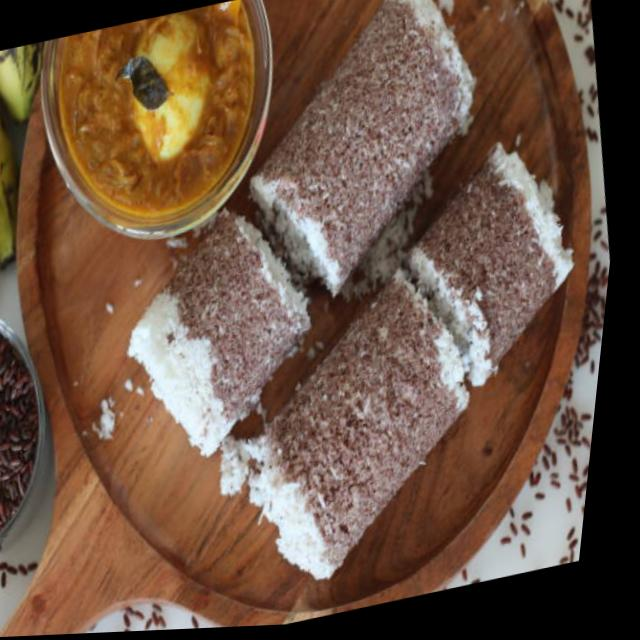EGG: (57, 0, 260, 222)
PUTTU: (110, 0, 584, 593)
